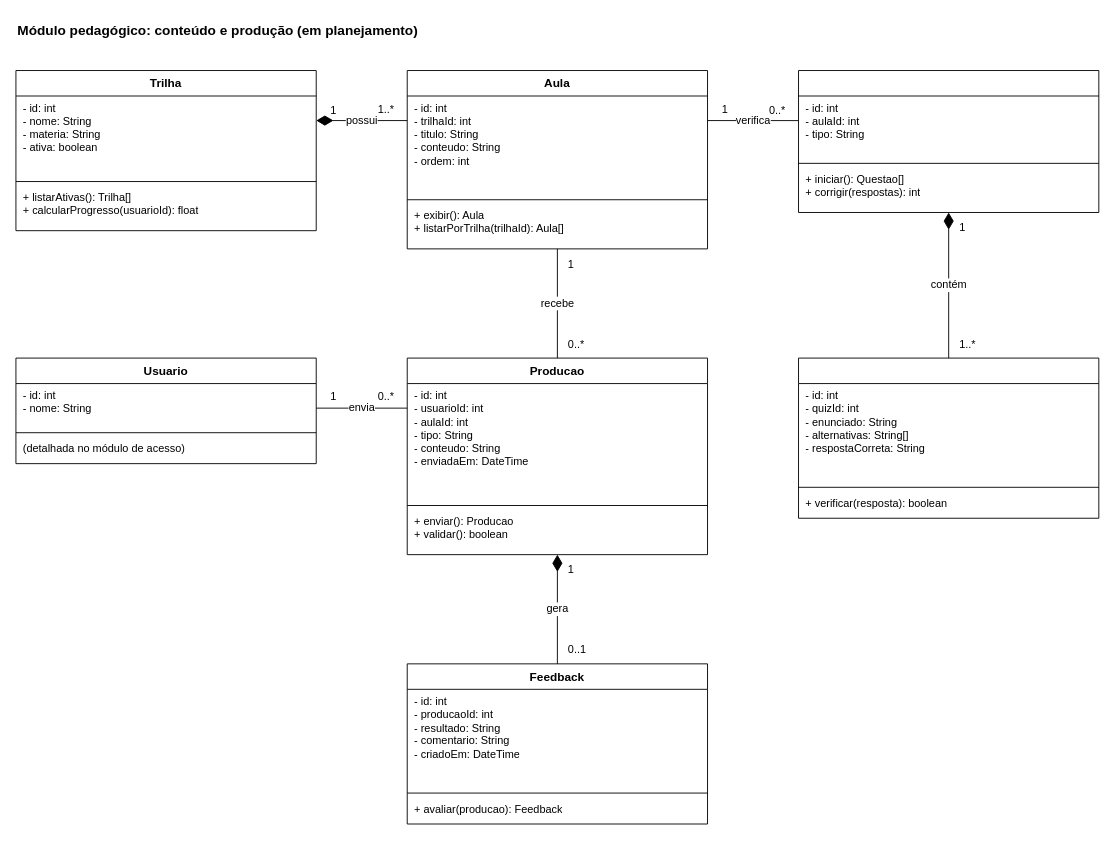
Image size: 1115x842. Some labels were removed from this diagram. Here are the shapes that lost their labels. From the top down, the box of each, then its label:
(798, 70, 1099, 212): Quiz
(798, 357, 1099, 518): Questao
